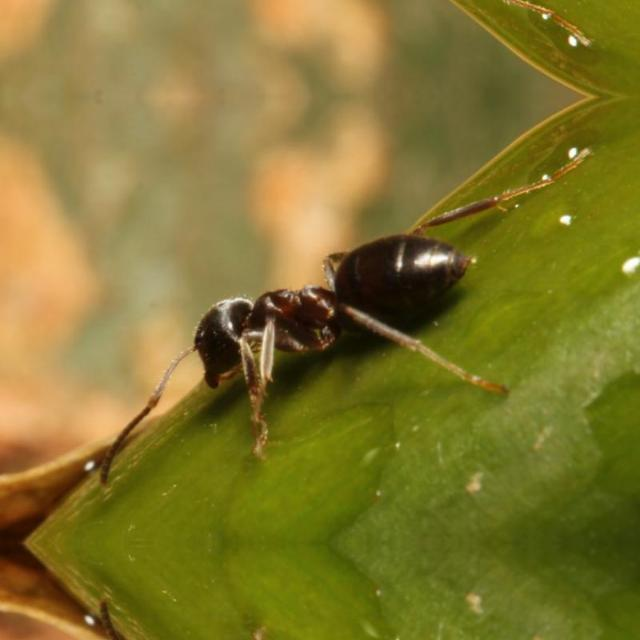Lasius: (141, 240, 489, 398)
